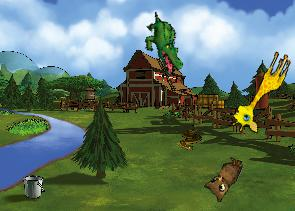crocodile: (131, 10, 197, 78)
giraffe: (227, 44, 294, 138)
owl: (200, 150, 244, 204)
